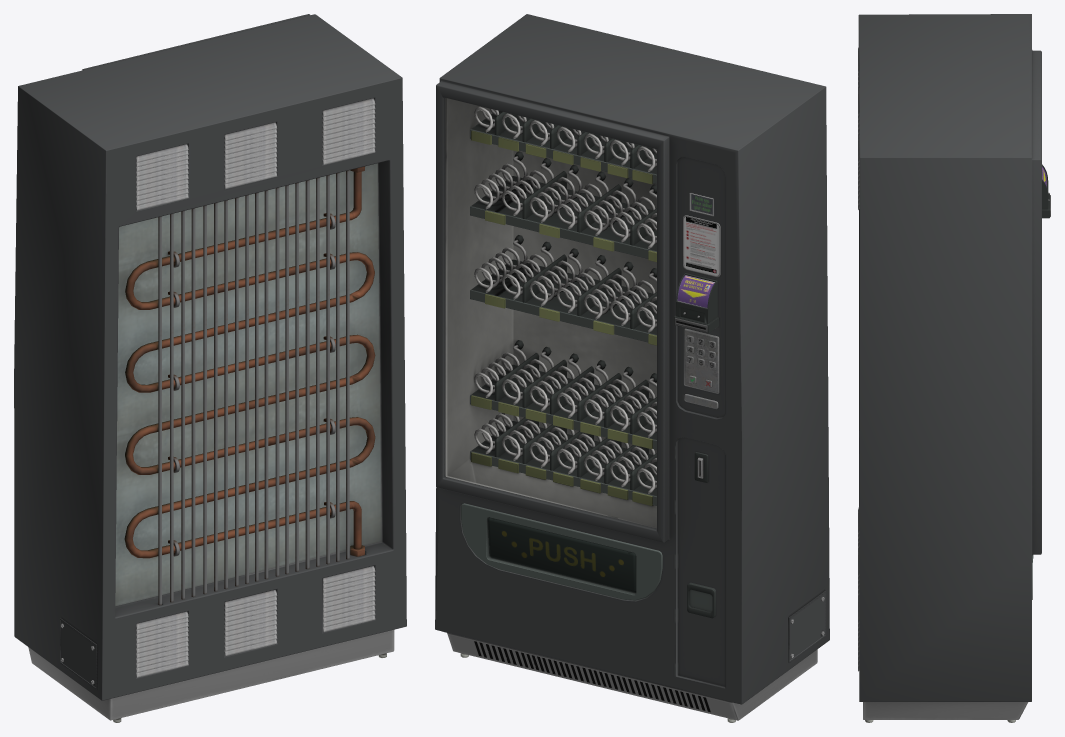
The model's file is vending_machine.glb.
3 renders of one model, left to right at view 1: azimuth 30°, elevation 25°; view 2: azimuth 150°, elevation 25°; view 3: azimuth 270°, elevation 25°, orthographic.
Visible parts, largest first — view 1: polySurface322, polySurface313, polySurface314, polySurface311, polySurface315, polySurface310, polySurface312, polySurface282, polySurface278, polySurface271, polySurface279, polySurface286 (+14 smaller); view 2: polySurface322, polySurface262, nk1:pCube429, polySurface265, polySurface266, polySurface256, polySurface263, polySurface264, polySurface362; view 3: polySurface322, nk1:pCube429.
Boxes of the visible parts, left/top/right/bottom form: polySurface322: left=14, top=14, right=406, bottom=720; polySurface313: left=322, top=98, right=375, bottom=164; polySurface314: left=224, top=122, right=277, bottom=188; polySurface311: left=224, top=590, right=277, bottom=655; polySurface315: left=136, top=144, right=188, bottom=210; polySurface310: left=136, top=611, right=188, bottom=677; polySurface312: left=323, top=566, right=375, bottom=631; polySurface282: left=305, top=180, right=309, bottom=569; polySurface278: left=264, top=190, right=268, bottom=579; polySurface271: left=191, top=208, right=195, bottom=597; polySurface279: left=275, top=187, right=279, bottom=576; polySurface286: left=346, top=170, right=349, bottom=559; polySurface322: left=435, top=14, right=829, bottom=720; polySurface262: left=445, top=98, right=656, bottom=528; nk1:pCube429: left=461, top=193, right=720, bottom=618; polySurface265: left=470, top=151, right=656, bottom=258; polySurface266: left=470, top=235, right=656, bottom=342; polySurface256: left=470, top=340, right=656, bottom=449; polySurface263: left=470, top=413, right=656, bottom=505; polySurface264: left=470, top=106, right=656, bottom=183; polySurface362: left=474, top=641, right=710, bottom=712; polySurface322: left=858, top=14, right=1041, bottom=719; nk1:pCube429: left=1032, top=164, right=1050, bottom=599.
Size of the model in its own units: 5.94 by 10.71 by 3.27.
7 materials, 6 textured.
